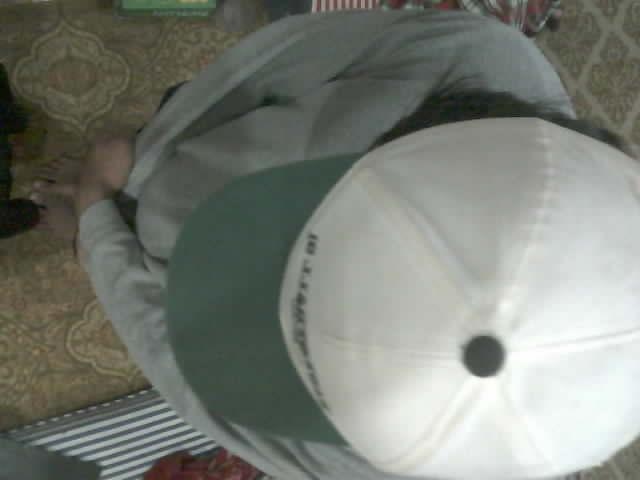cap: (164, 116, 639, 479)
